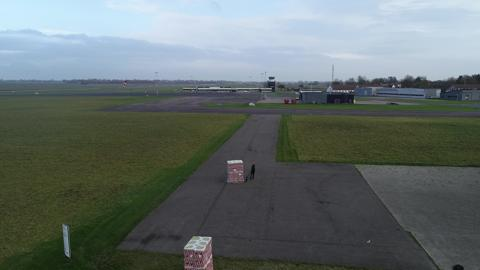RockwoolPallet: (226, 158, 244, 182)
